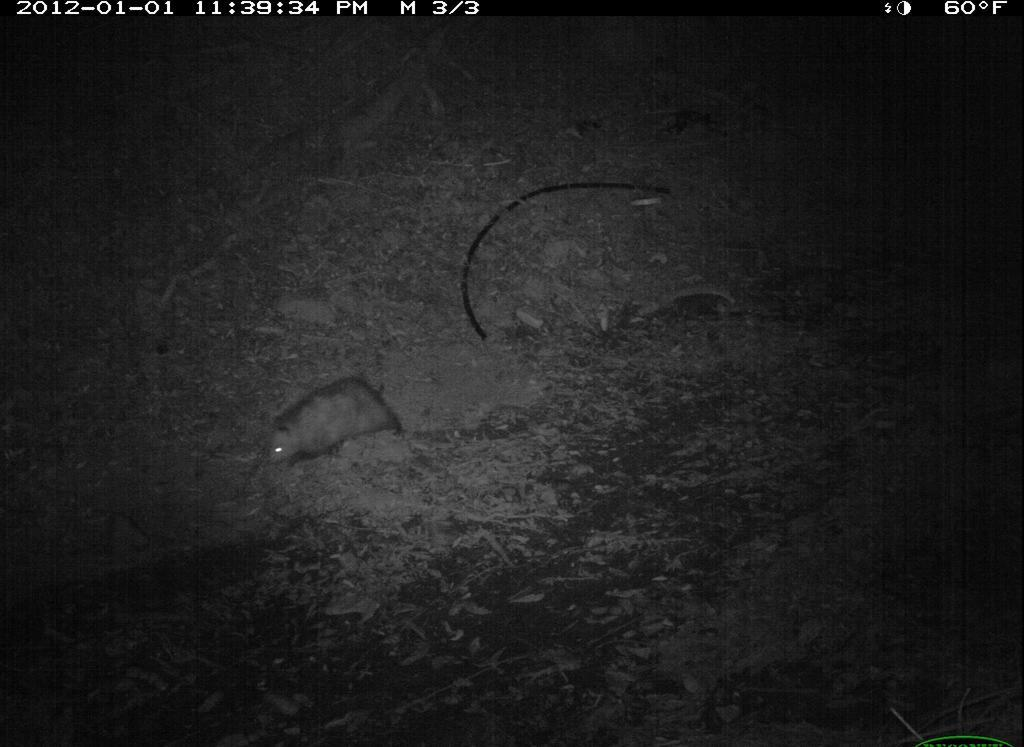opossum: (263, 368, 411, 474)
